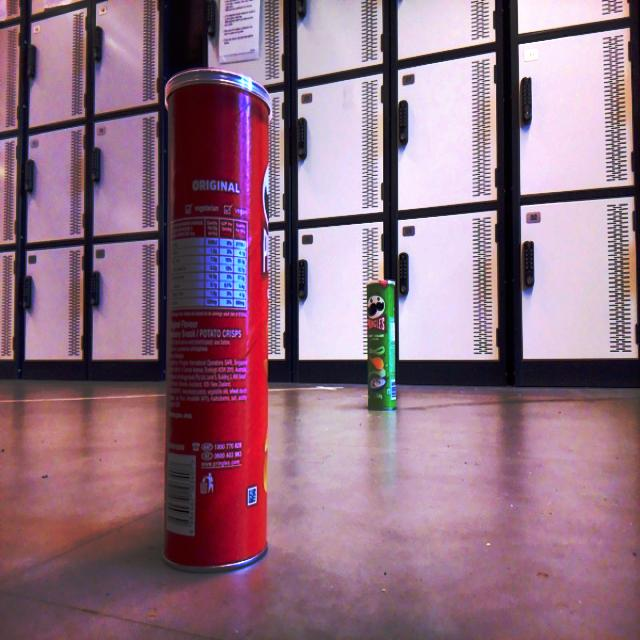greenpringles: (357, 267, 407, 419)
redpringles: (152, 63, 291, 583)
